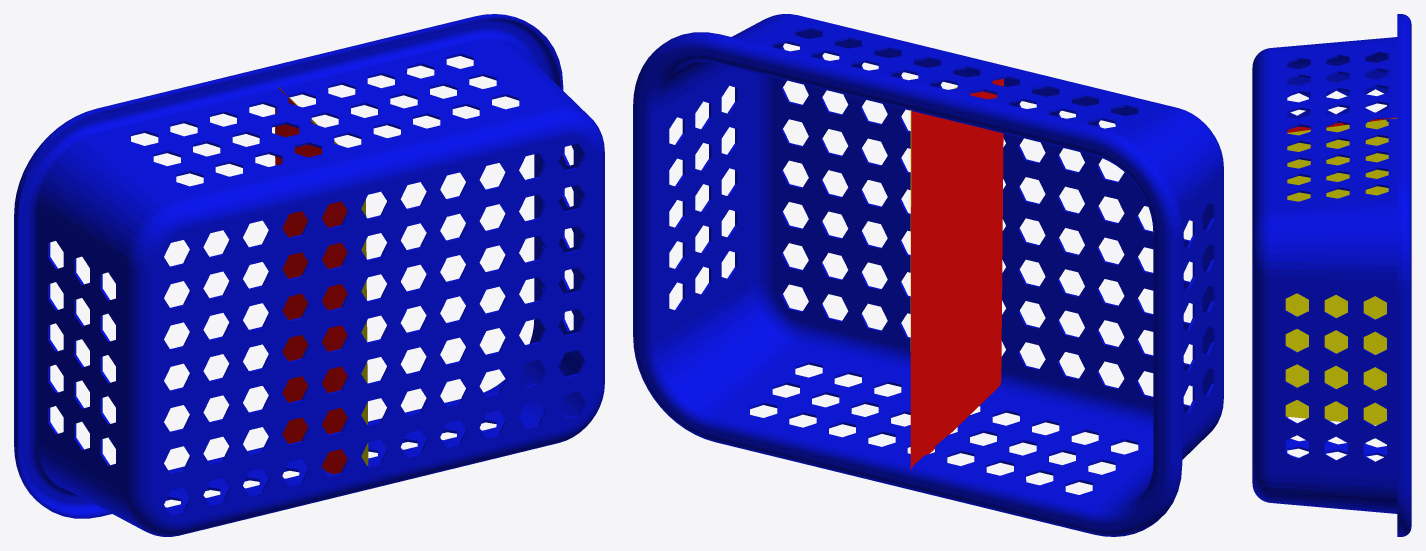
The model's file is basket.dae.
The picture shows the model from 3 angles, left to right: view 1: azimuth 30°, elevation 25°; view 2: azimuth 150°, elevation 25°; view 3: azimuth 270°, elevation 25°; orthographic projection. The views are drawn at different scales.
Parts seen in each view (by area): view 1: basket, bifurcation, basket.002; view 2: basket, bifurcation, basket.002; view 3: basket, basket.002, bifurcation.001.
Part boxes in pixels (x1,y1,x2,y2): basket: (14,14,604,536); bifurcation: (275,86,361,474); basket.002: (533,83,604,393); basket: (633,14,1223,536); bifurcation: (910,79,1003,470); basket.002: (633,66,761,351); basket: (1252,14,1411,536); basket.002: (1256,276,1411,500); bifurcation.001: (1285,118,1397,425).
Size of the model in its own units: 0.691 by 0.203 by 0.491.
